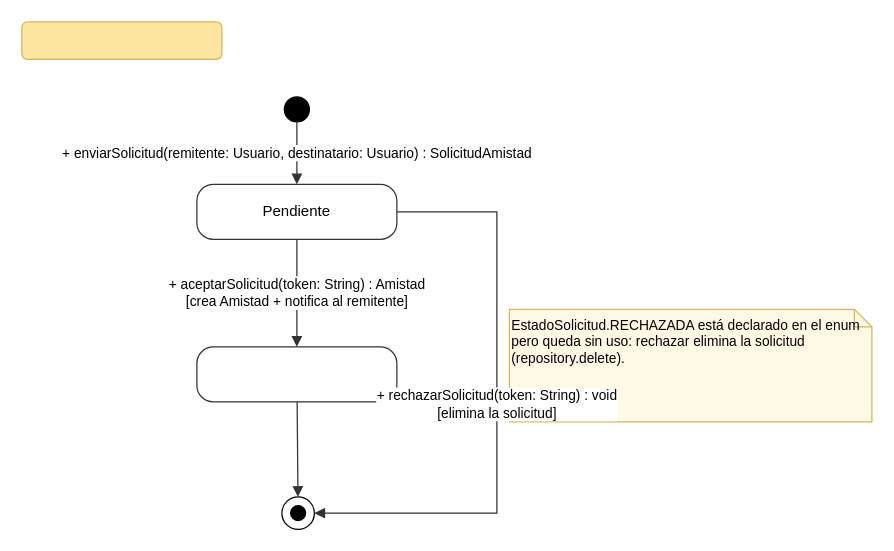
Some shapes in this 894 by 551 pixel diagram are drawn without their labels. The box of each missing label's shape, as (x1, y1, x2, y2) in pixels:
Aceptada: (196, 346, 397, 402)
SolicitudAmistad: (21, 21, 222, 59)
